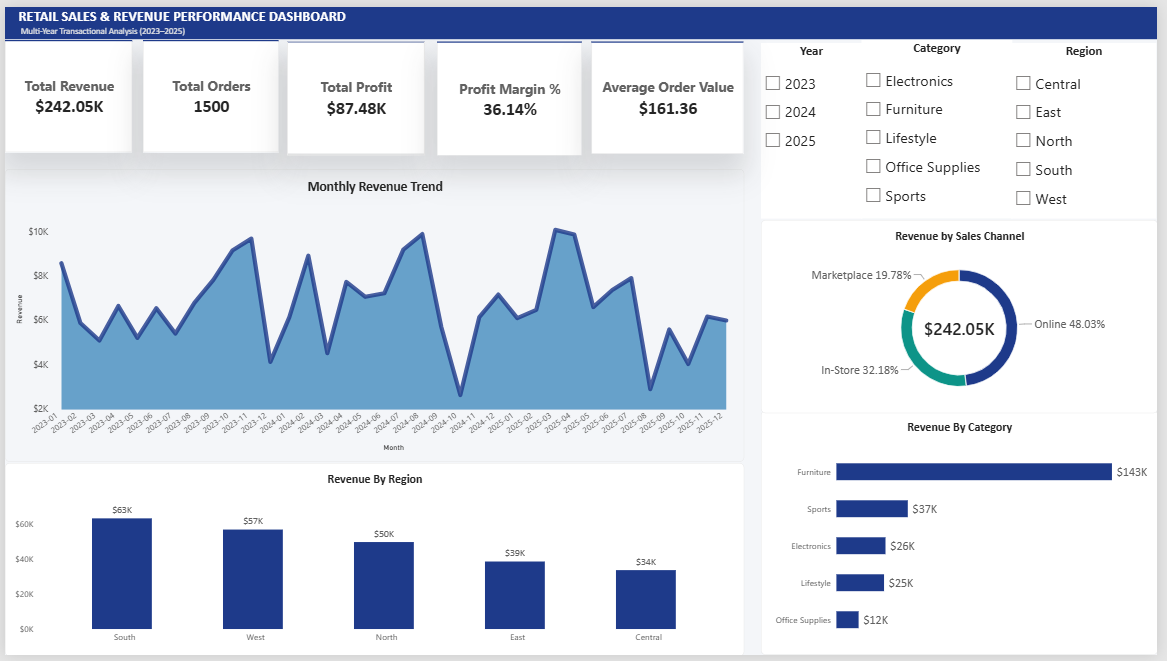

Layout of this report page (visuals, bound fields, positions):
{"tool":"powerbi","page":{"name":"Executive Overview","canvas":[1920,1080],"ordinal":0},"visuals":[{"type":"lineChart","title":"Monthly Revenue Trend","fields":{"Category":["DateTable.Year-Month"],"Y":["Sales.Total Revenue"]},"box":[0,270.8,1232.1,488],"z":0},{"type":"cardVisual","title":"Total Revenue","fields":{"Data":["Sales.Total Revenue"]},"box":[0,56.1,212.3,187.9],"z":1000},{"type":"cardVisual","fields":{"Data":["Sales.Total Orders"]},"box":[229.3,56.1,226.9,187.9],"z":2000},{"type":"clusteredBarChart","title":"Revenue By Category","fields":{"Category":["Sales.Category"],"Y":["Sales.Total Revenue"]},"box":[1258.9,673.4,661.2,407.4],"z":3000},{"type":"clusteredColumnChart","title":"Revenue By Region","fields":{"Category":["Sales.Region"],"Y":["Sales.Total Revenue"]},"box":[0,758.8,1232.1,322.1],"z":4000},{"type":"cardVisual","fields":{"Data":["Sales.Total Profit"]},"box":[470.9,58.6,229.3,187.9],"z":5000},{"type":"donutChart","title":"Revenue by Sales Channel","fields":{"Category":["Sales.Sales_Channel"],"Y":["Sales.Total Revenue"]},"box":[1258.9,353.8,661.2,322.1],"z":6000},{"type":"cardVisual","fields":{"Data":["Sales.Profit Margin %"]},"box":[719.7,58.6,241.5,190.3],"z":7000},{"type":"slicer","title":"Year","fields":{"Values":["DateTable.Year"]},"box":[1258.9,61,168.3,292.8],"z":8000},{"type":"cardVisual","fields":{"Data":["Sales.Average Order Value"]},"box":[978.4,58.6,253.7,187.9],"z":9000},{"type":"slicer","title":"Region","fields":{"Values":["Sales.Region"]},"box":[1678.6,61,241.5,292.8],"z":10000},{"type":"slicer","title":"Category","fields":{"Values":["Sales.Category"]},"box":[1427.3,56.1,251.3,297.7],"z":11000},{"type":"shape","box":[0,0,1920.1,53.7],"z":12000},{"type":"textbox","box":[22,0,1898.2,53.7],"z":13000}]}

Visuals, with their boxes in screenshot pixels (x1, y1, x2, y2), scaled from the page's 1920x1080 canvas onto the 1167x661 screenshot:
"Monthly Revenue Trend" lineChart: (x1=0, y1=166, x2=749, y2=464)
"Total Revenue" cardVisual: (x1=0, y1=34, x2=129, y2=149)
cardVisual - Sales.Total Orders: (x1=139, y1=34, x2=277, y2=149)
"Revenue By Category" clusteredBarChart: (x1=765, y1=412, x2=1166, y2=660)
"Revenue By Region" clusteredColumnChart: (x1=0, y1=464, x2=749, y2=660)
cardVisual - Sales.Total Profit: (x1=286, y1=36, x2=426, y2=151)
"Revenue by Sales Channel" donutChart: (x1=765, y1=217, x2=1166, y2=414)
cardVisual - Sales.Profit Margin %: (x1=437, y1=36, x2=584, y2=152)
"Year" slicer: (x1=765, y1=37, x2=867, y2=217)
cardVisual - Sales.Average Order Value: (x1=595, y1=36, x2=749, y2=151)
"Region" slicer: (x1=1020, y1=37, x2=1166, y2=217)
"Category" slicer: (x1=868, y1=34, x2=1020, y2=217)
shape: (x1=0, y1=0, x2=1166, y2=33)
textbox: (x1=13, y1=0, x2=1166, y2=33)
